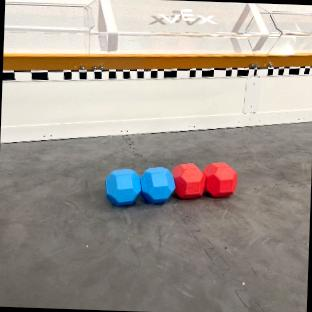V5_BLUE: (105, 167, 175, 205)
V5_RED: (172, 161, 237, 199)
